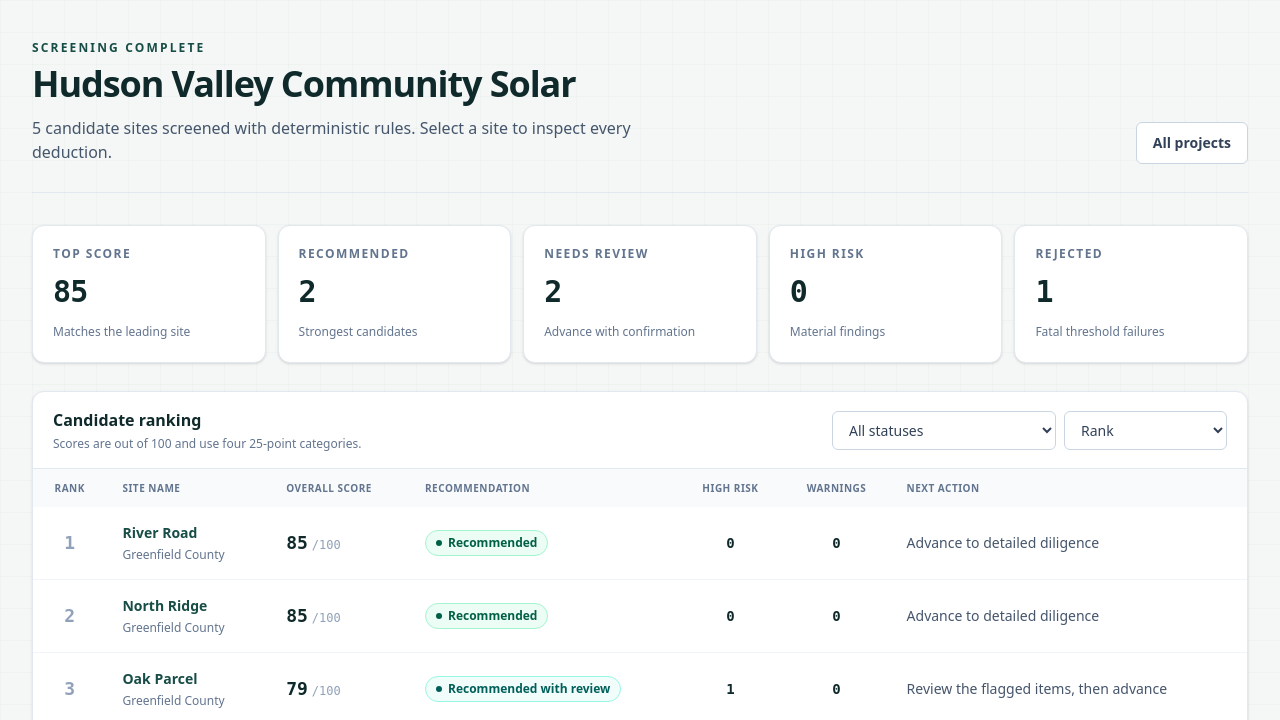
Test: filters candidates by recommendation status
Select "Reject" in the dropdown named "Filter by status": (944, 430) [832, 410, 1056, 450]
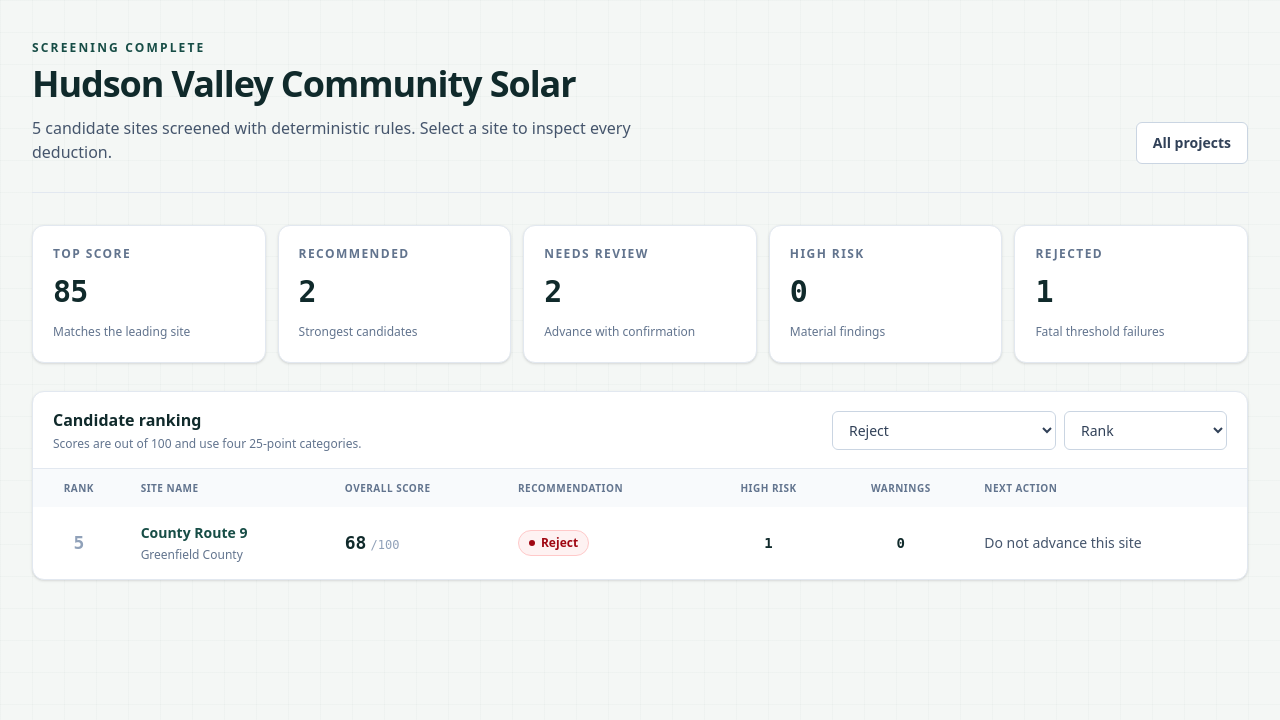
expect the link "River Road" is gone: met
expect the link "North Ridge" is gone: met
expect the link "Oak Parcel" is gone: met
